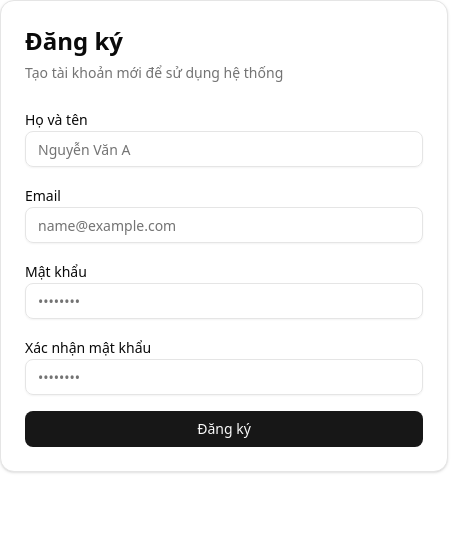
Test: M01 RegisterForm feedback live regions › exposes server registration errors as role="alert"
The width and height of the screenshot is (465, 550).
In the field labelled "Họ và tên": (224, 149) [25,131,423,167], type "Test User"
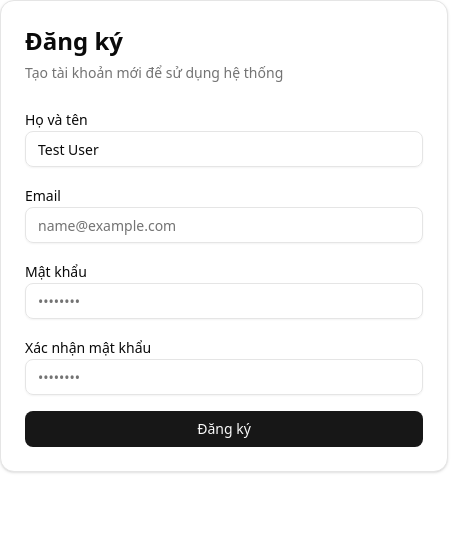
In the field labelled "Email": (224, 225) [25,207,423,243], type "user@example.com"
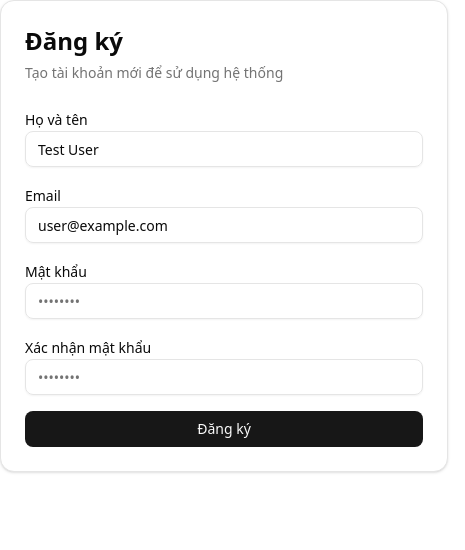
In the password field labelled "Mật khẩu": (224, 301) [25,283,423,319], type "password123"
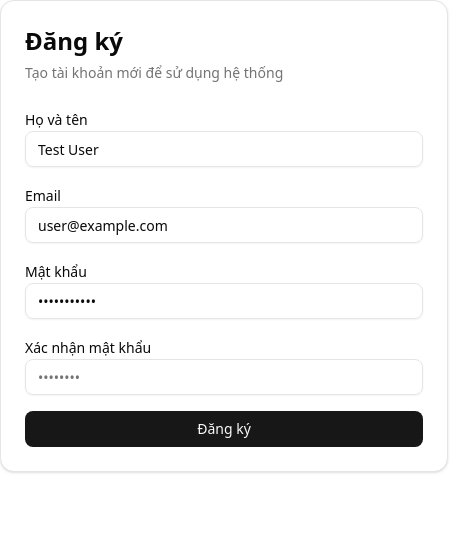
In the password field labelled "Xác nhận mật khẩu": (224, 377) [25,359,423,395], type "password123"
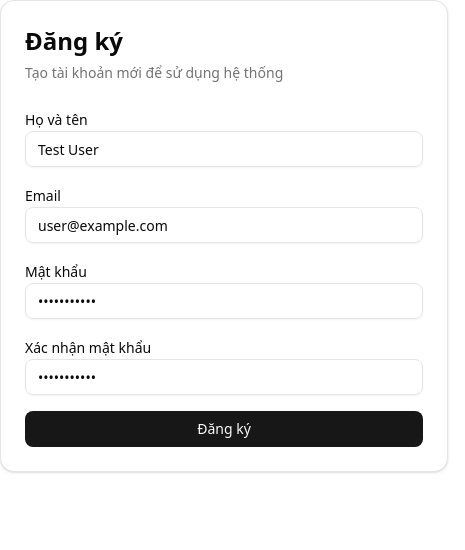
Click the button "Đăng ký": (224, 429) [25,411,423,447]
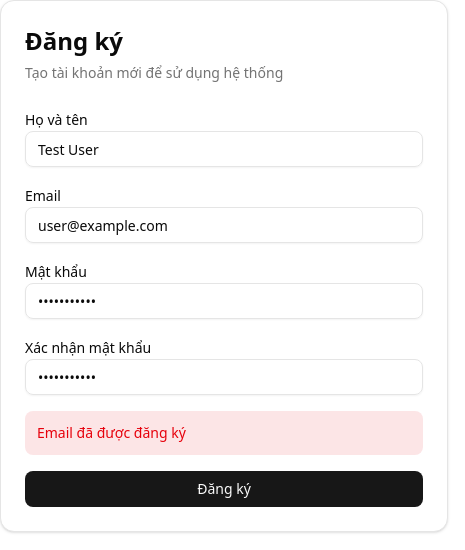
Result: the message reads "Email đã được đăng ký" at [37,423,186,442]
